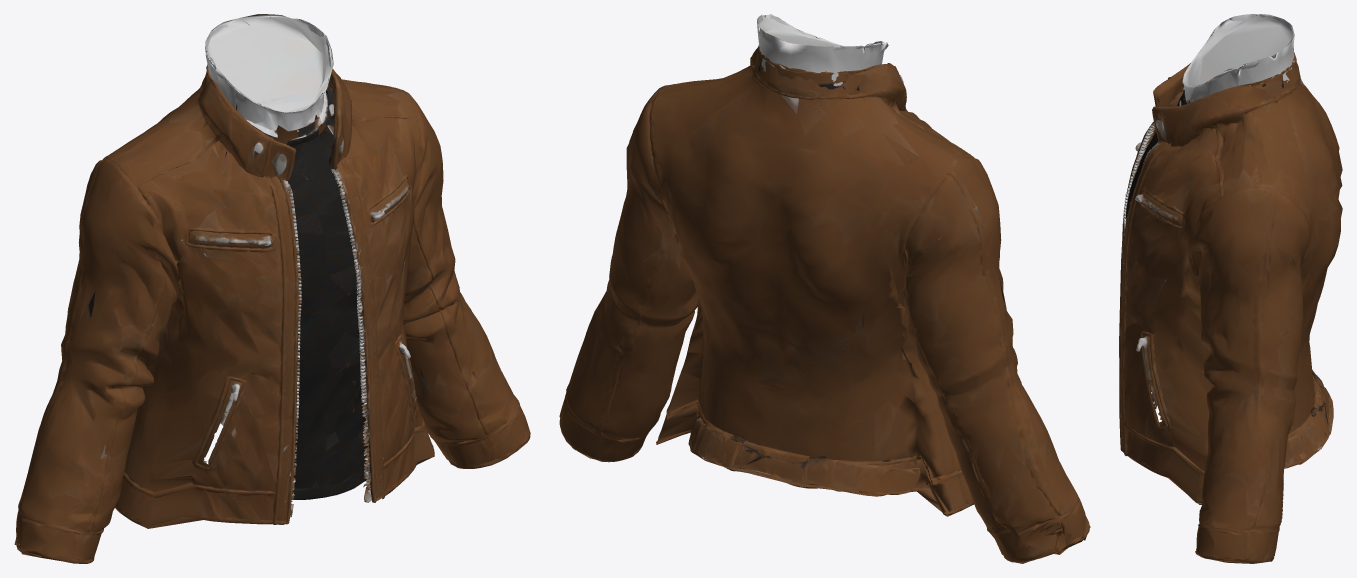
The model's file is top_jacket.glb.
3 views of the same model, side by side, from view 1: azimuth 30°, elevation 25°; view 2: azimuth 150°, elevation 25°; view 3: azimuth 270°, elevation 25° (orthographic). The views are drawn at different scales.
Visible parts, largest first — view 1: jacket; view 2: jacket; view 3: jacket.
Boxes of the visible parts, x1,y1,x2,y2 form: jacket: [14, 14, 530, 563]; jacket: [559, 14, 1090, 563]; jacket: [1119, 14, 1342, 563].
Size of the model in its own units: 0.6579 by 0.5881 by 0.2717.
Materials: 1 (1 with a texture image).
